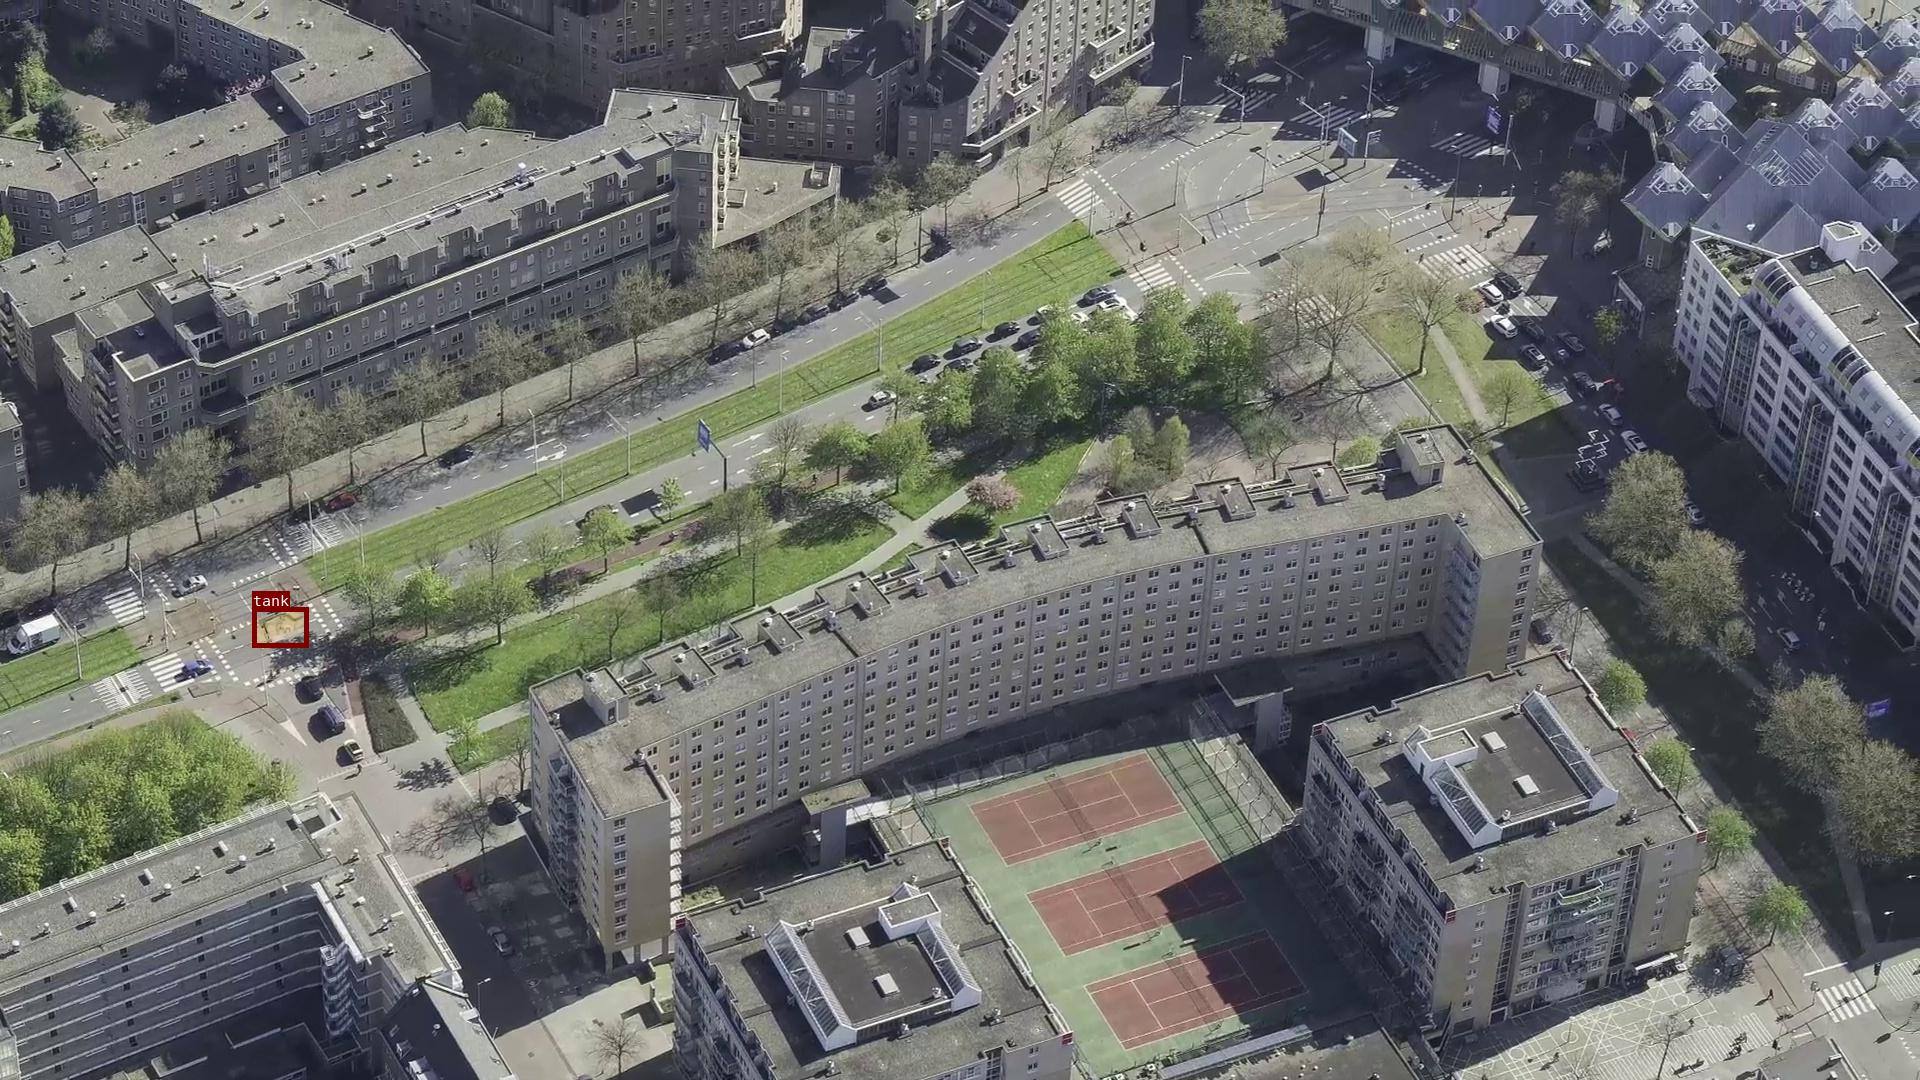tank: (252, 607, 309, 647)
